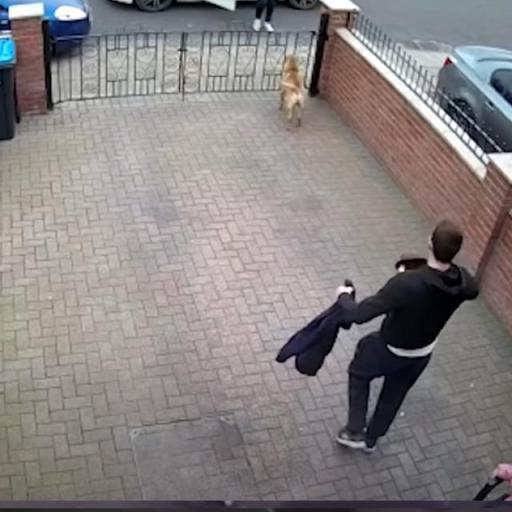person: (329, 201, 492, 467), (243, 1, 287, 39)
